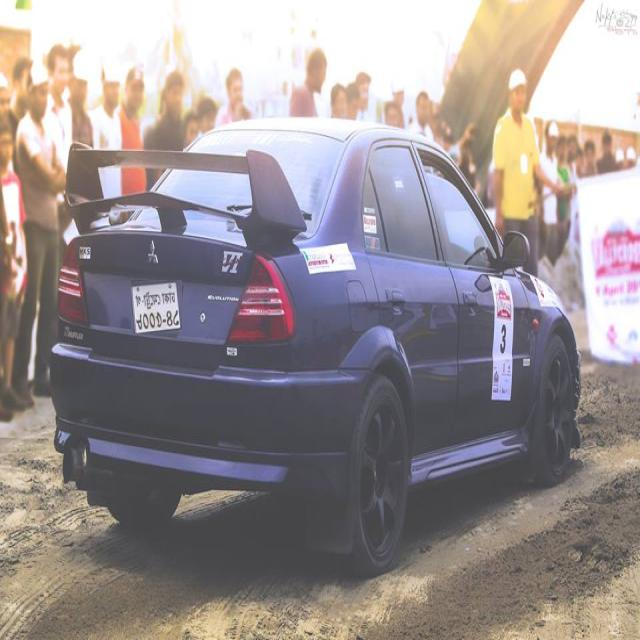numberplate: (131, 280, 182, 334)
